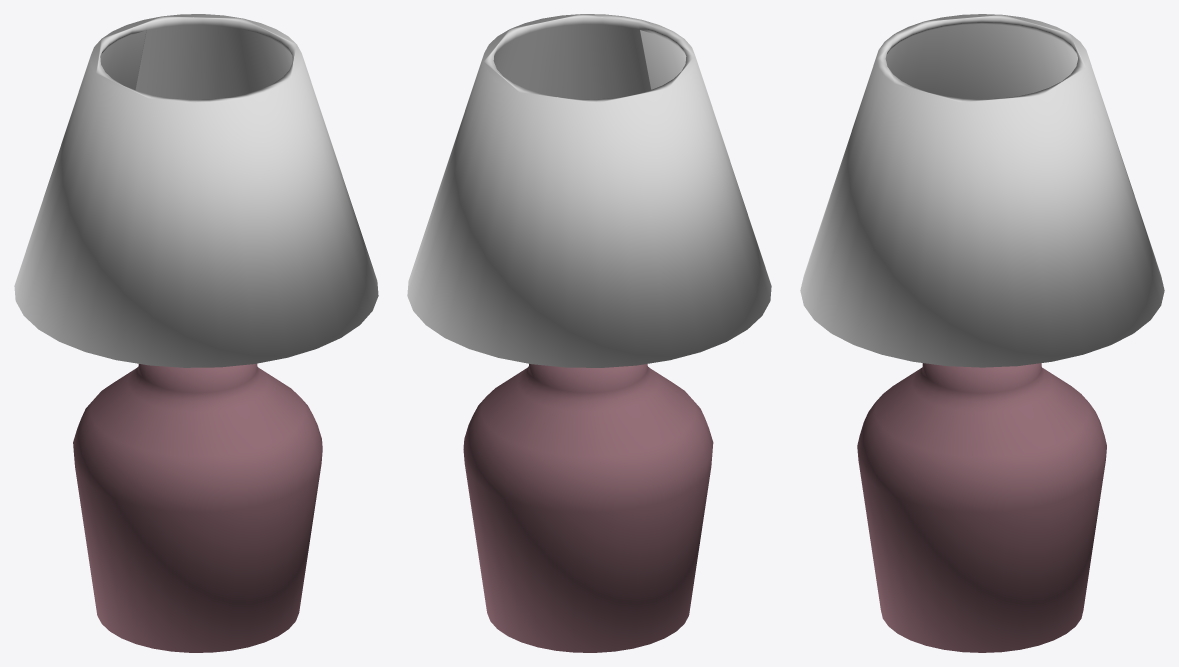
The model's file is desk_lamp.fbx.
3 views of the same model, side by side, from view 1: azimuth 30°, elevation 25°; view 2: azimuth 150°, elevation 25°; view 3: azimuth 270°, elevation 25° (orthographic).
Visible parts, largest first — view 1: varjostin, jalka; view 2: varjostin, jalka; view 3: varjostin, jalka.
Boxes of the visible parts, x1,y1,x2,y2 form: varjostin: (14,14,378,367); jalka: (73,363,322,652); varjostin: (407,14,771,367); jalka: (463,364,713,652); varjostin: (800,14,1164,367); jalka: (857,363,1106,652).
Bounding box in the file's own units: 42.28 × 70.52 × 42.28.
